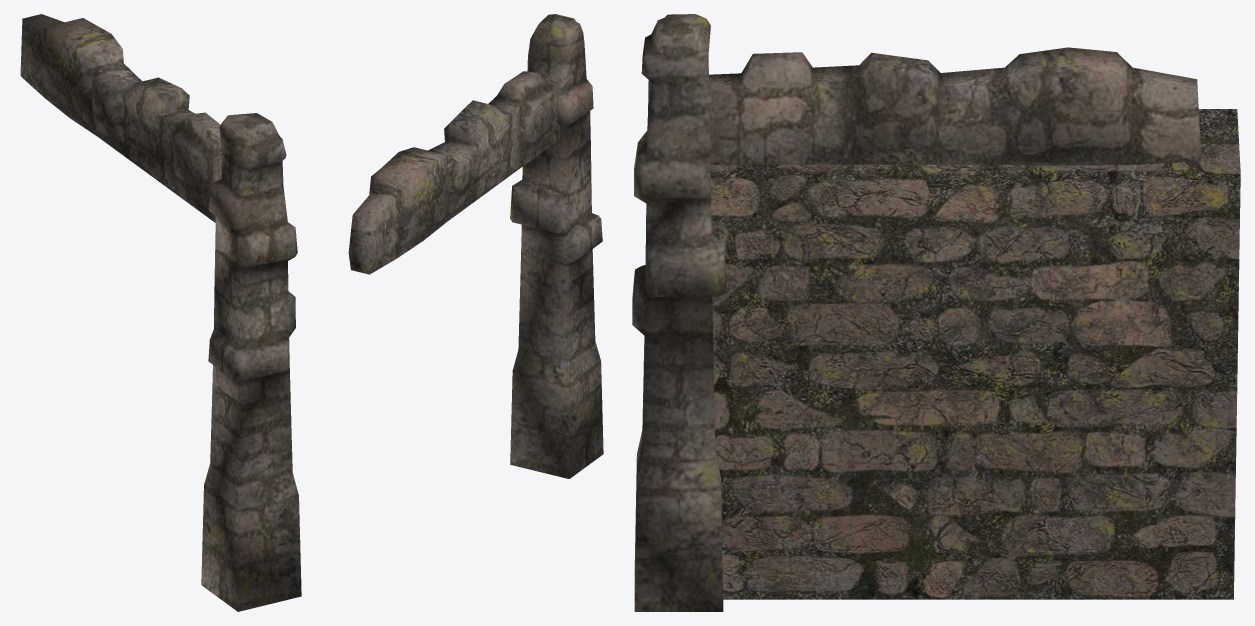
File: SV_Wall_Outside-transformed.glb
The picture shows the model from 3 angles, left to right: view 1: azimuth 30°, elevation 25°; view 2: azimuth 150°, elevation 25°; view 3: azimuth 270°, elevation 25°; orthographic projection. The views are drawn at different scales.
Parts seen in each view (by area): view 1: default; view 2: default; view 3: default.
Boxes of the visible parts, x1,y1,x2,y2 form: default: (20,14,301,611); default: (348,14,603,478); default: (632,14,1240,611).
Bounding box in the file's own units: 1.3 × 8.74 × 8.42.
2 materials, 2 textured.
